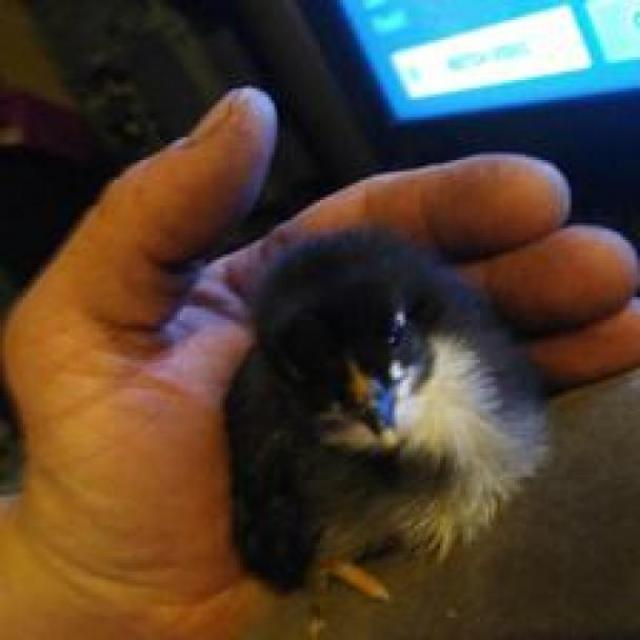Chicken: (231, 233, 554, 640)
